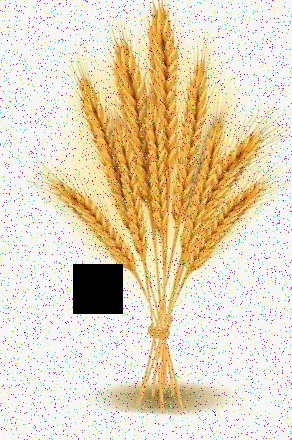wheat: (75, 64, 146, 266), (189, 114, 280, 262), (28, 164, 137, 278), (110, 22, 160, 242), (137, 2, 178, 244), (167, 49, 209, 236), (181, 107, 225, 246)
